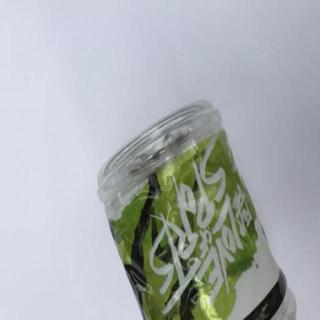Plastic-bottle: (97, 100, 299, 320)
